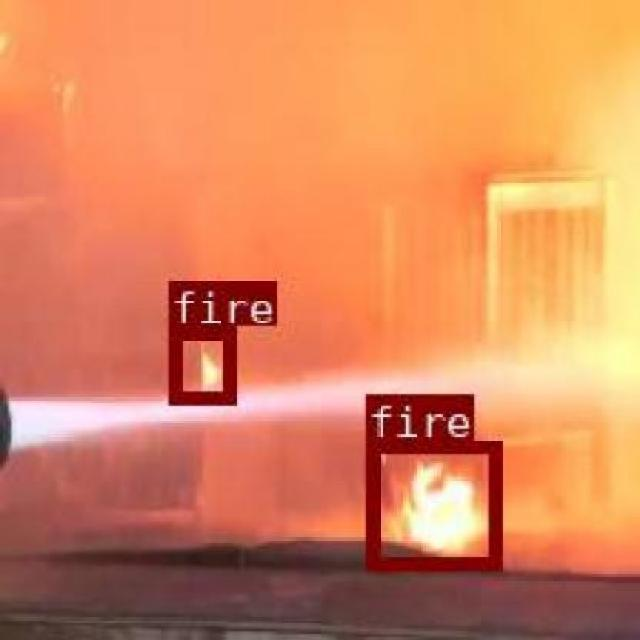Fire: (364, 438, 499, 566), (168, 323, 232, 400)
